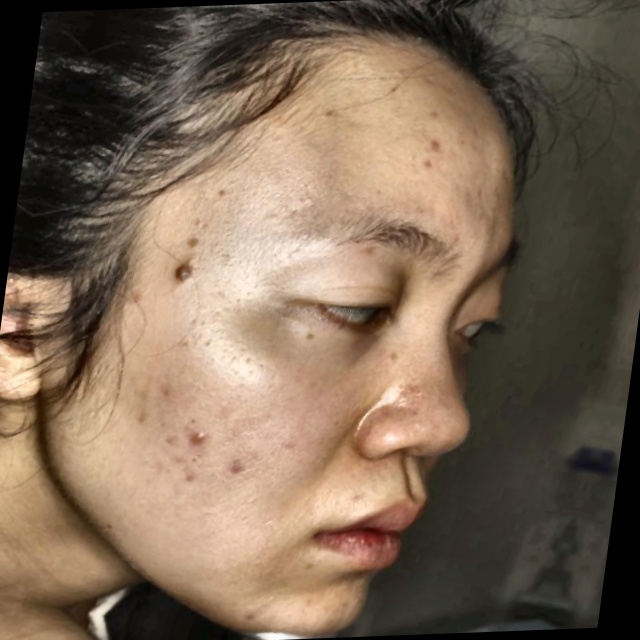comedone: (417, 134, 450, 170), (220, 453, 258, 484), (183, 421, 215, 451)
